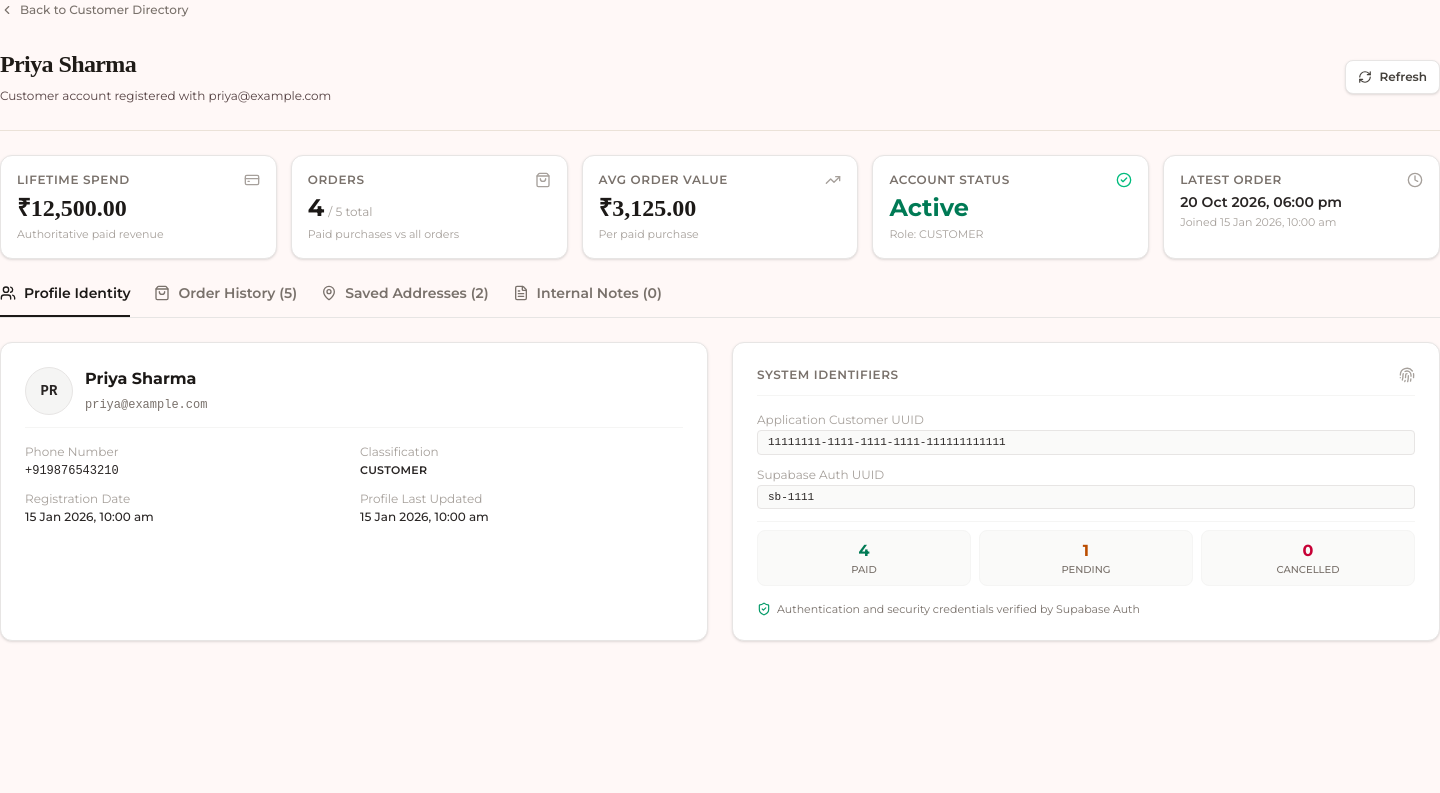
Scenario: AdminCustomerDetailClient › handles API error when fetching notes and offers retry
Check: the 1st heading "Priya Sharma" is shown, box x1=0 y1=51 x2=136 y2=77
Click the button "Internal Notes (0)" at x=587, y=300, box x1=513 y1=283 x2=662 y2=317
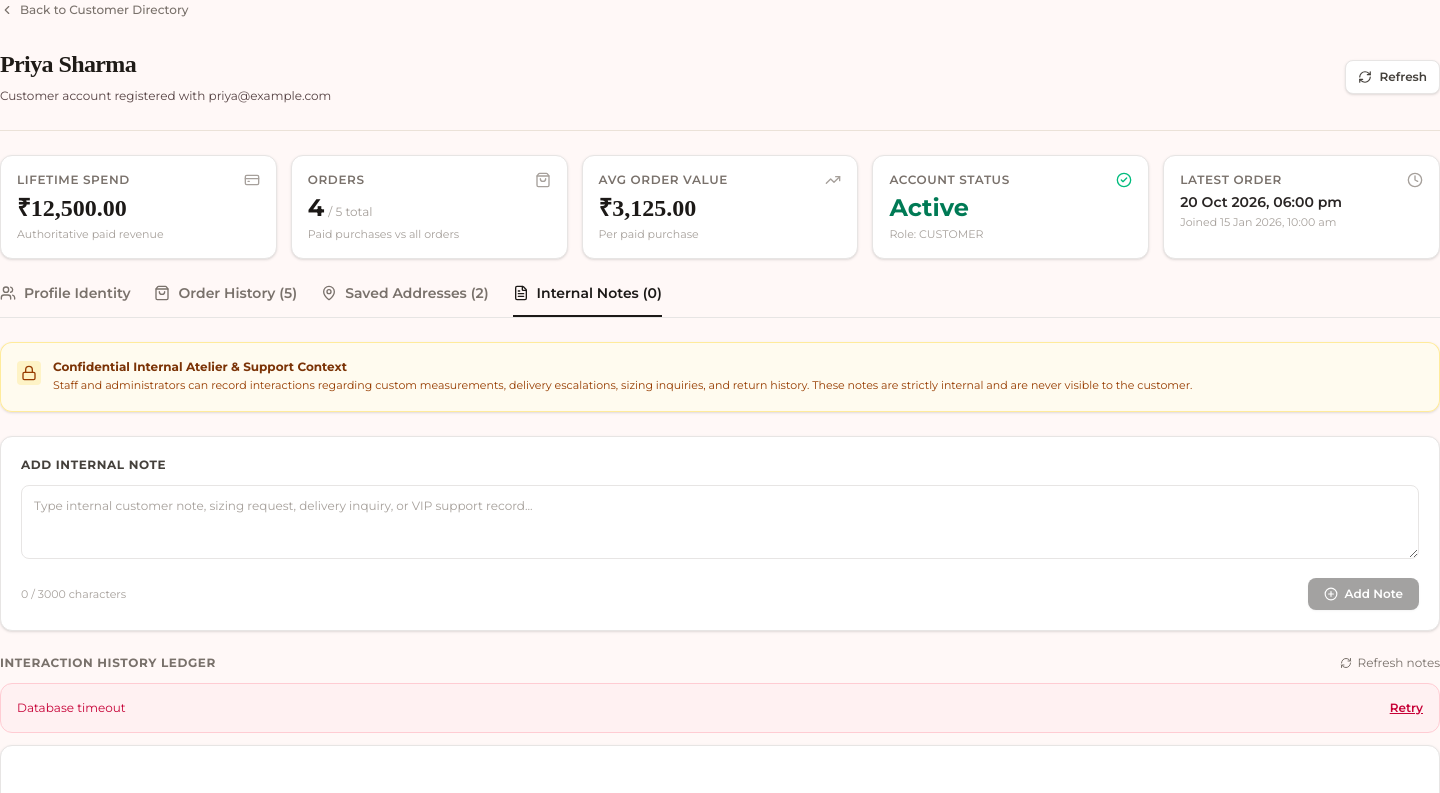
Check: the text "Database timeout" is shown, box x1=17 y1=700 x2=126 y2=716
Click the button "Retry" at x=1406, y=708, box x1=1390 y1=700 x2=1423 y2=716
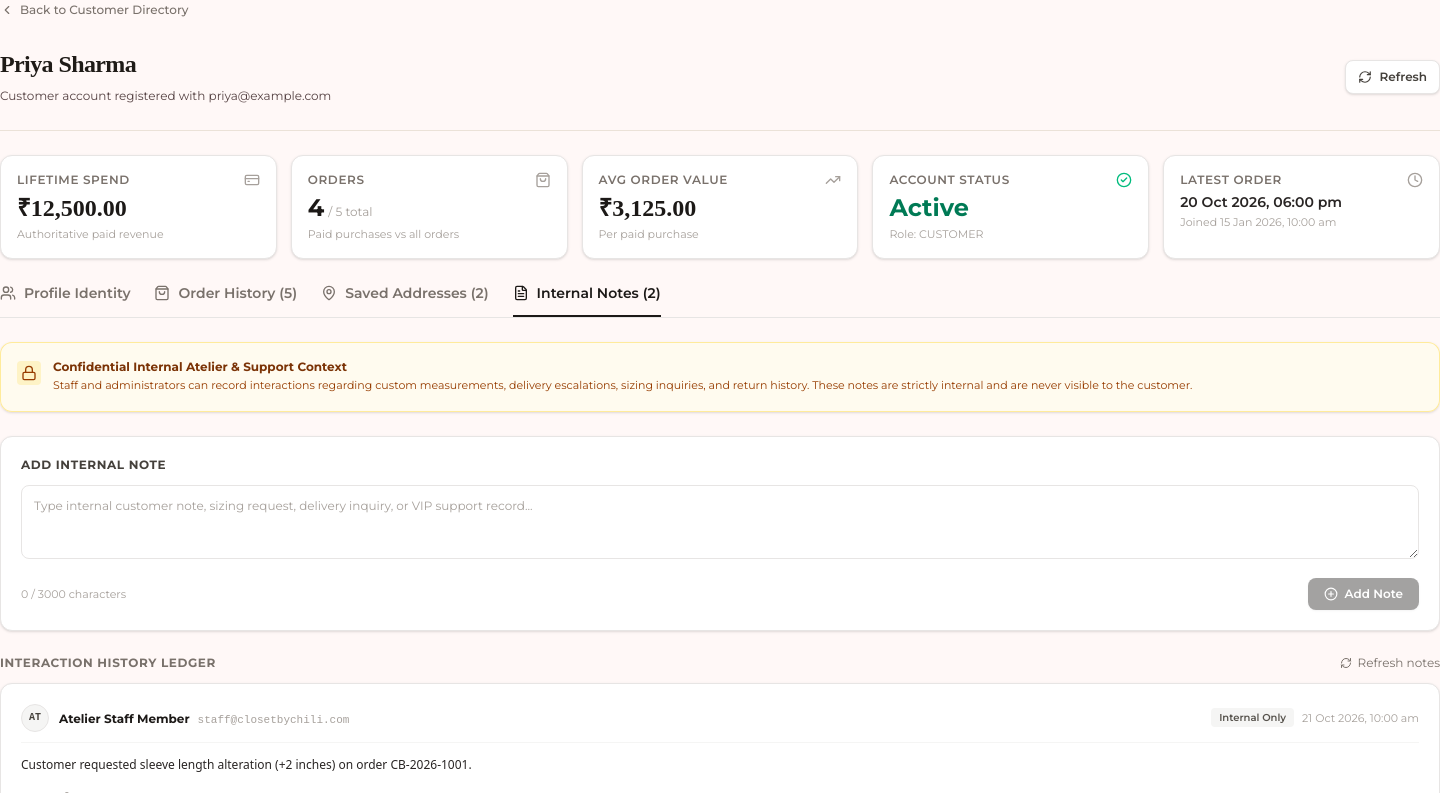
Check: the text "Atelier Staff Member" is shown, box x1=59 y1=711 x2=190 y2=726
